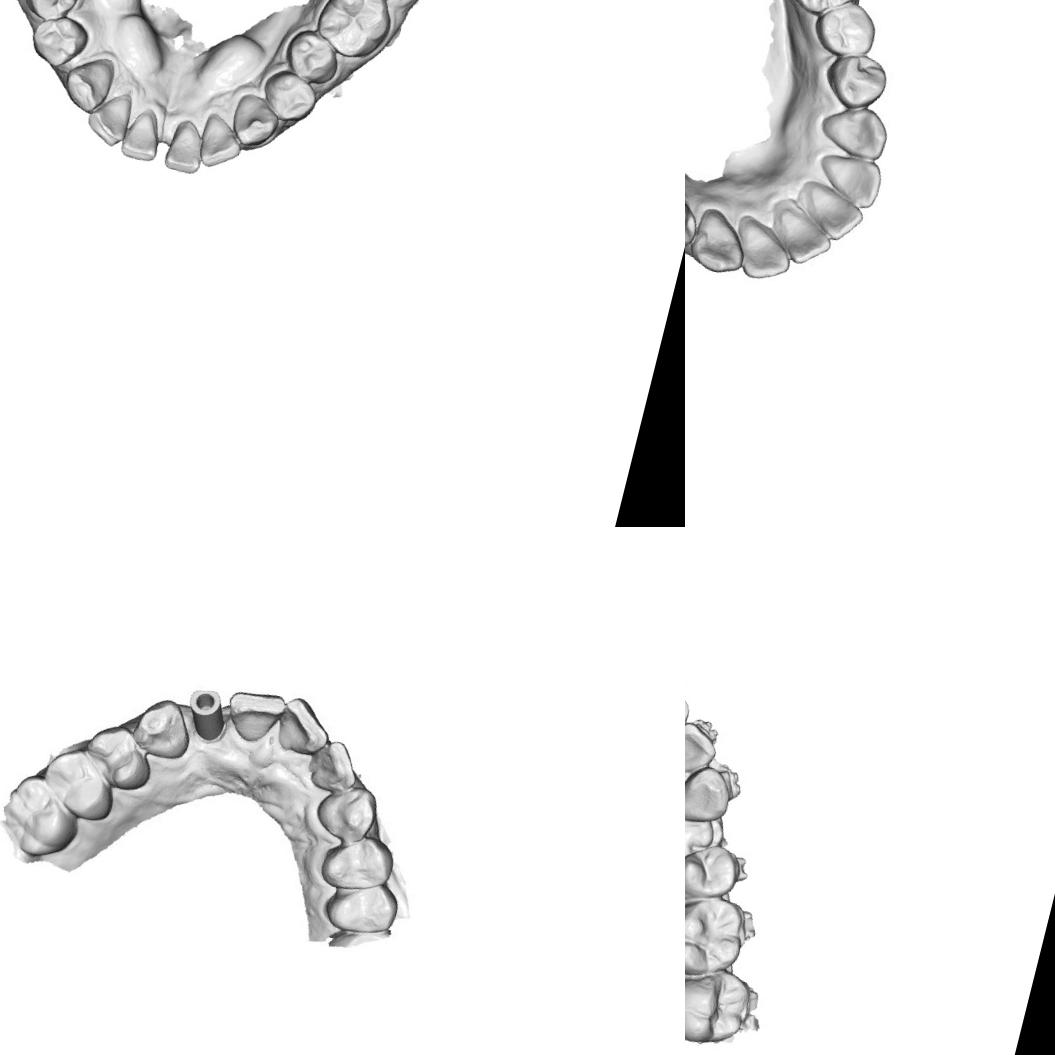canine: (810, 92, 898, 164), (685, 205, 755, 285), (130, 696, 202, 764), (57, 50, 117, 118), (224, 88, 283, 154), (317, 782, 380, 841), (685, 759, 735, 831)
implant: (178, 680, 236, 751)
incisor: (792, 177, 870, 245), (770, 196, 839, 268), (730, 216, 795, 285), (818, 150, 884, 212), (221, 685, 286, 746), (81, 86, 137, 154), (192, 109, 250, 174), (272, 694, 333, 754), (305, 739, 360, 797), (160, 114, 210, 176), (117, 105, 166, 164), (685, 711, 722, 782)
molar: (685, 882, 758, 987), (0, 770, 78, 863), (685, 956, 758, 1055), (309, 0, 400, 66), (39, 746, 118, 820)
premolar: (78, 723, 152, 791), (321, 878, 400, 940), (685, 833, 745, 913), (22, 7, 92, 72), (828, 44, 891, 114), (278, 24, 346, 88), (255, 64, 322, 128), (318, 833, 391, 890), (817, 0, 877, 56), (17, 0, 87, 27), (685, 182, 706, 260)
